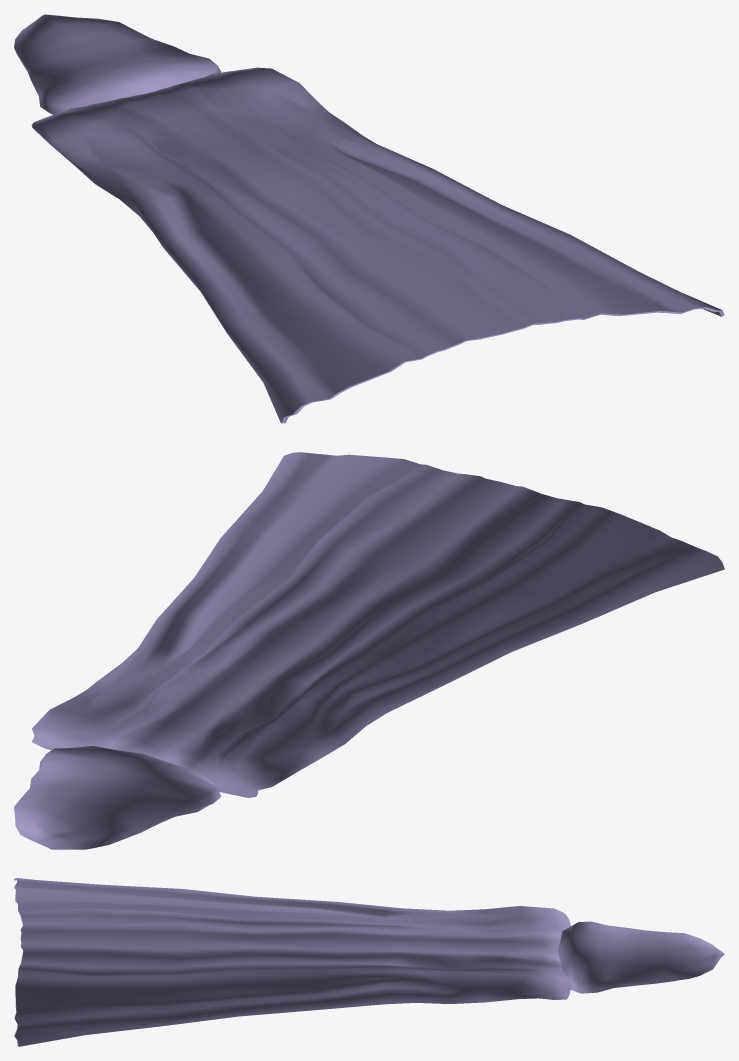
The model's file is W_Vader_Cape.FBX.
The picture shows the model from 3 angles, top to bottom: view 1: azimuth 30°, elevation 25°; view 2: azimuth 150°, elevation 25°; view 3: azimuth 270°, elevation 25°; orthographic projection. The views are drawn at different scales.
Visible parts, largest first — view 1: 54Plane002; view 2: 54Plane002; view 3: 54Plane002.
Boxes of the visible parts, box(x1,y1,x2,y2) form: 54Plane002: box(14, 14, 724, 423); 54Plane002: box(14, 452, 724, 849); 54Plane002: box(14, 878, 724, 1046).
Size of the model in its own units: 32.85 by 3.02 by 59.69.
